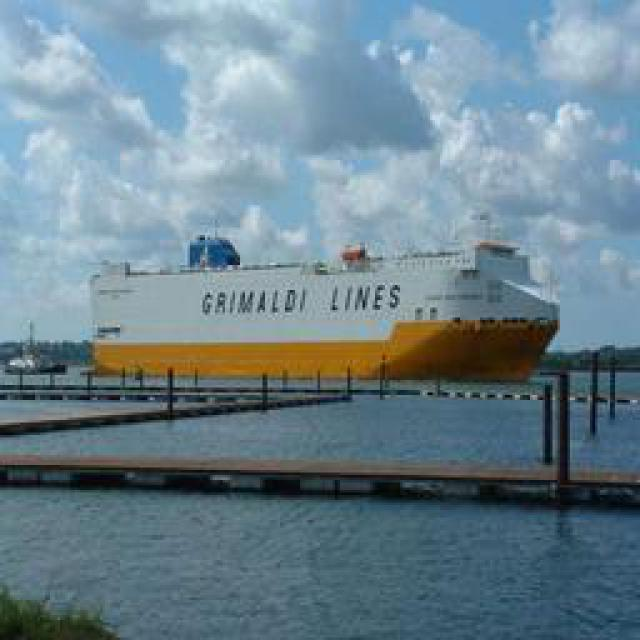Ship: (97, 230, 560, 383)
